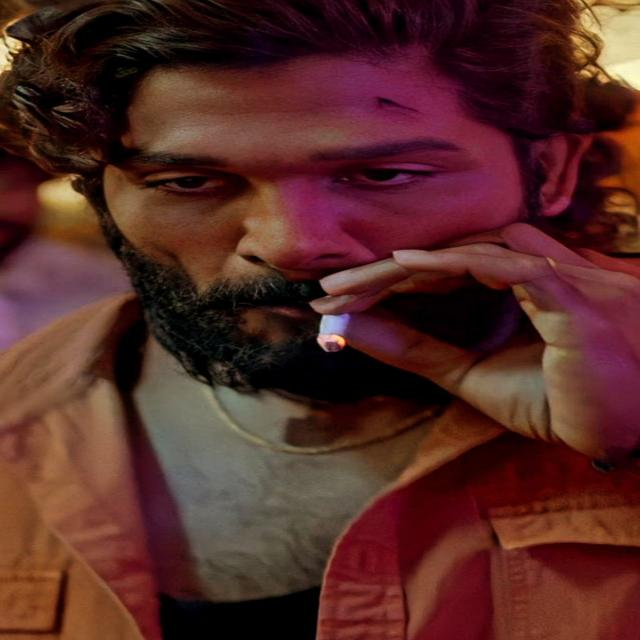cigarette: (311, 278, 356, 379)
